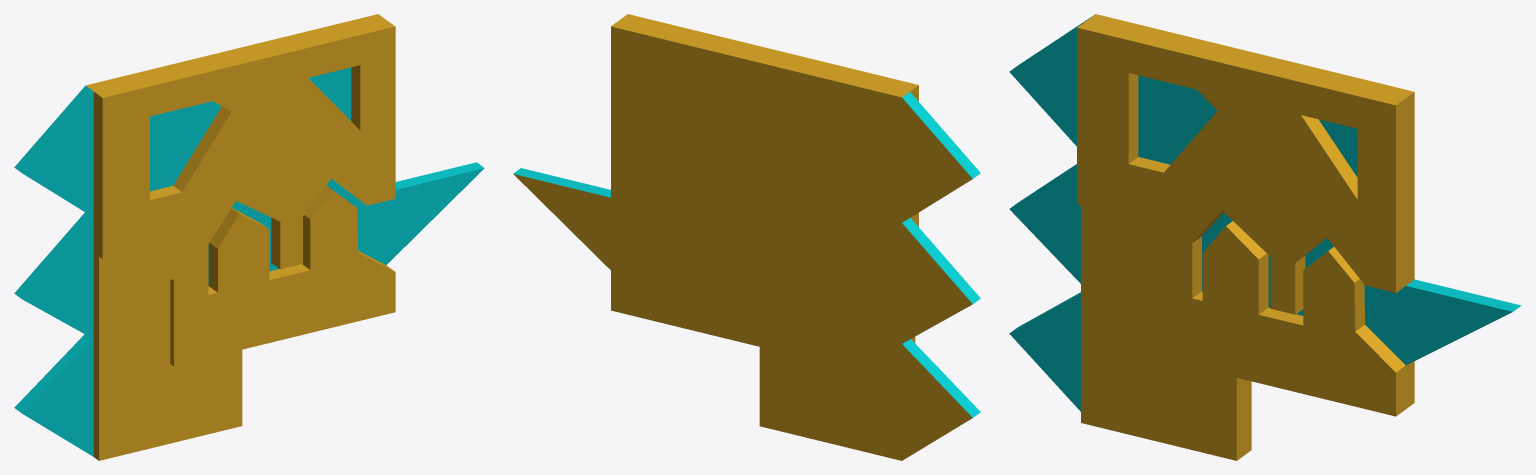
The model's file is Prop_Jungle_Temple_Ornament_Icon_Plaque_Small_Gold_Gem_07.FBX.
The picture shows the model from 3 angles, left to right: view 1: azimuth 30°, elevation 25°; view 2: azimuth 150°, elevation 25°; view 3: azimuth 330°, elevation 25°; orthographic projection. The views are drawn at different scales.
Visible parts, largest first — view 1: Prop_Jungle_Temple_Ornament_Icon_Plaque_Small_Gold_Gem_07; view 2: Prop_Jungle_Temple_Ornament_Icon_Plaque_Small_Gold_Gem_07; view 3: Prop_Jungle_Temple_Ornament_Icon_Plaque_Small_Gold_Gem_07.
Boxes of the visible parts, x1,y1,x2,y2 form: Prop_Jungle_Temple_Ornament_Icon_Plaque_Small_Gold_Gem_07: [14, 14, 484, 460]; Prop_Jungle_Temple_Ornament_Icon_Plaque_Small_Gold_Gem_07: [513, 14, 980, 460]; Prop_Jungle_Temple_Ornament_Icon_Plaque_Small_Gold_Gem_07: [1009, 14, 1521, 460].
Size of the model in its own units: 693 by 524 by 44.43.
